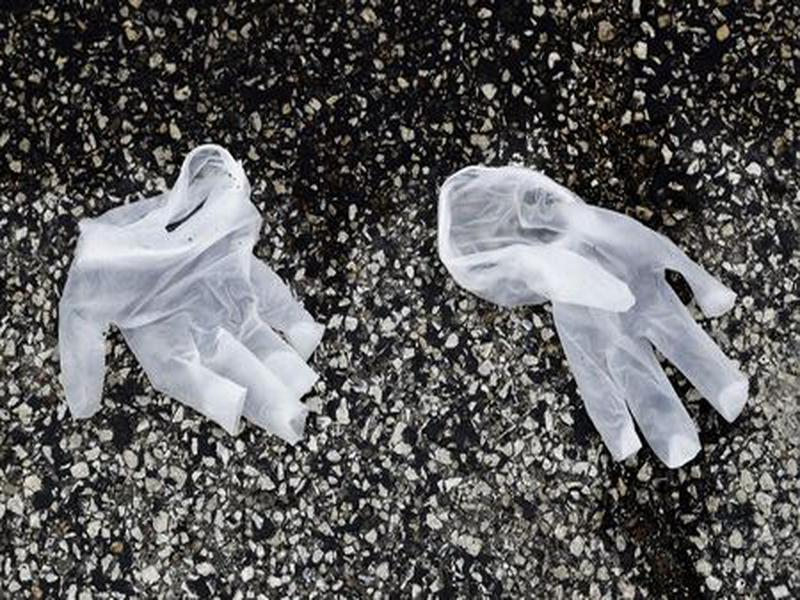gloves: (428, 157, 752, 476), (50, 143, 331, 446)
